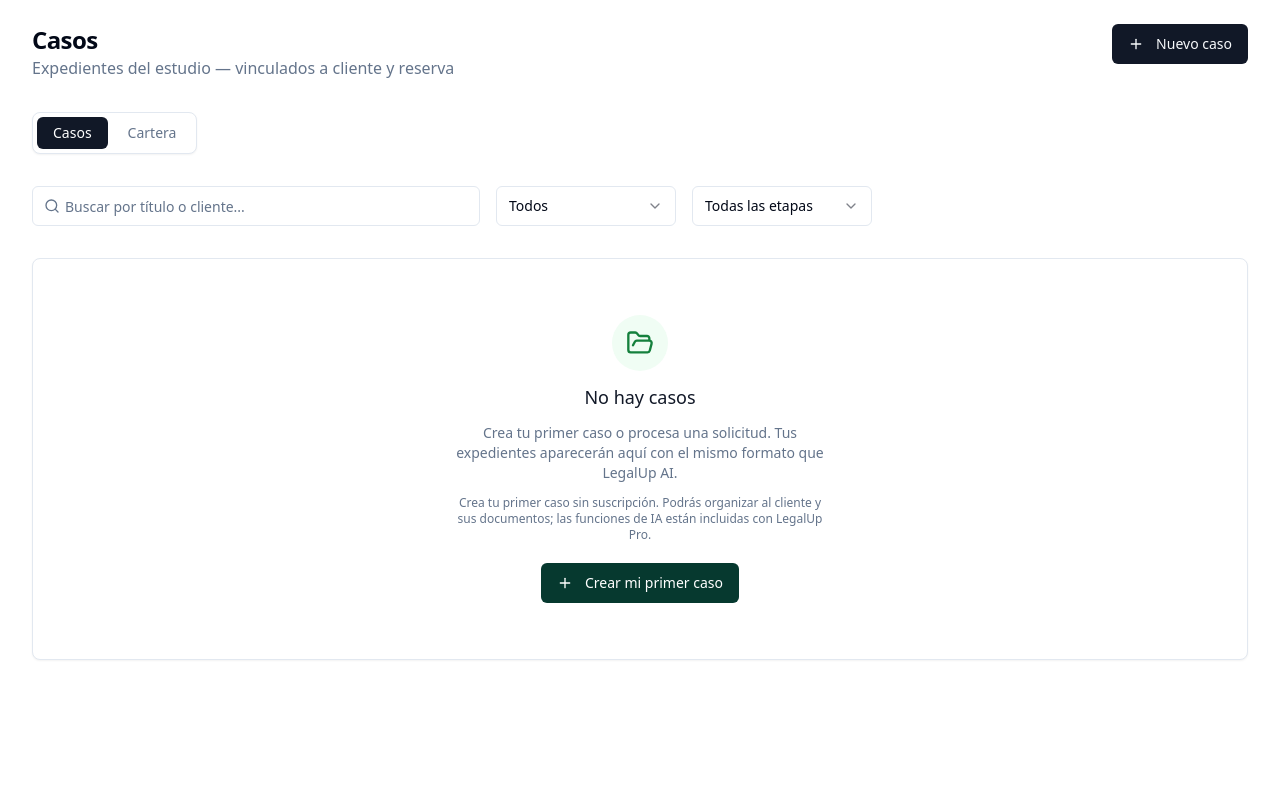
Test: 4.31C — New Case client dropdown › 2 clients: dropdown shows both names without visiting ClientsPage
This screenshot has width=1280, height=800.
Click the button "Nuevo caso". click: click(1180, 44)
box: [1112,24,1248,64]
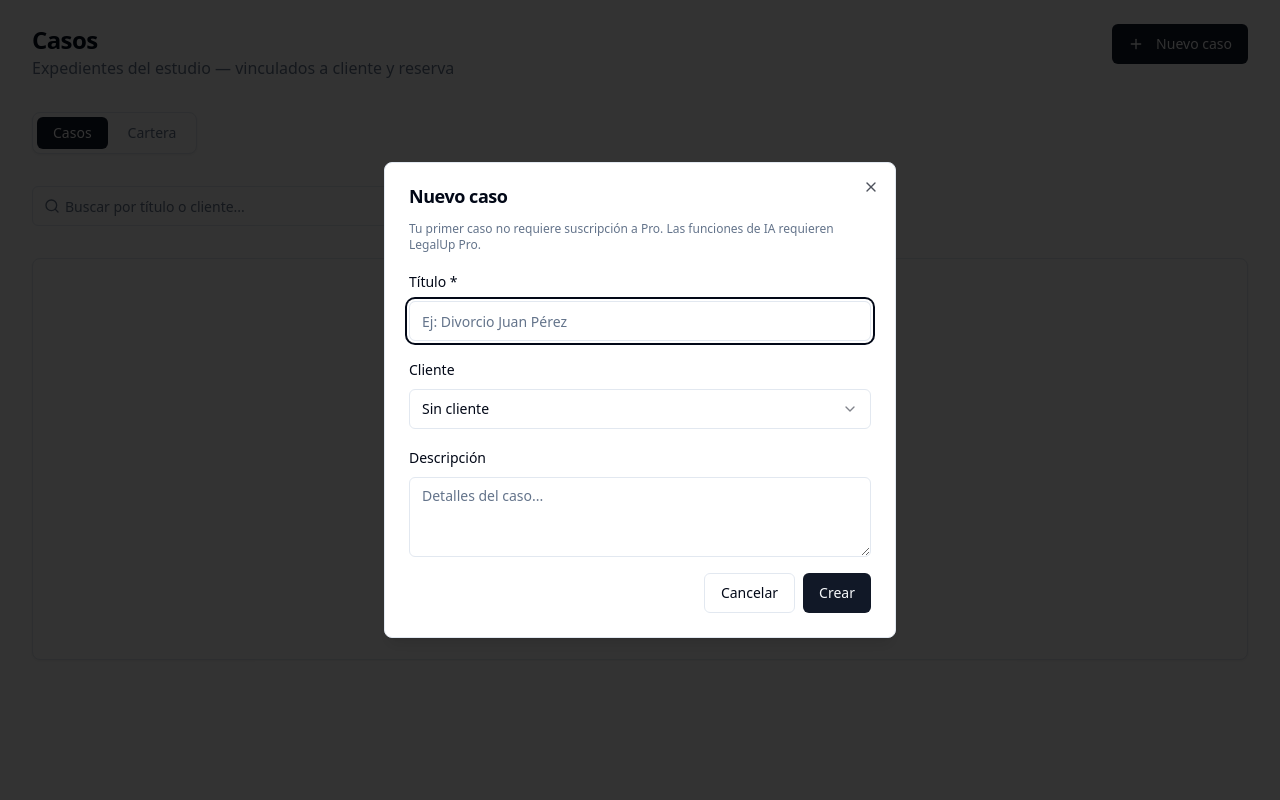
Click the dropdown. click: click(456, 408)
box: [409,389,871,429]
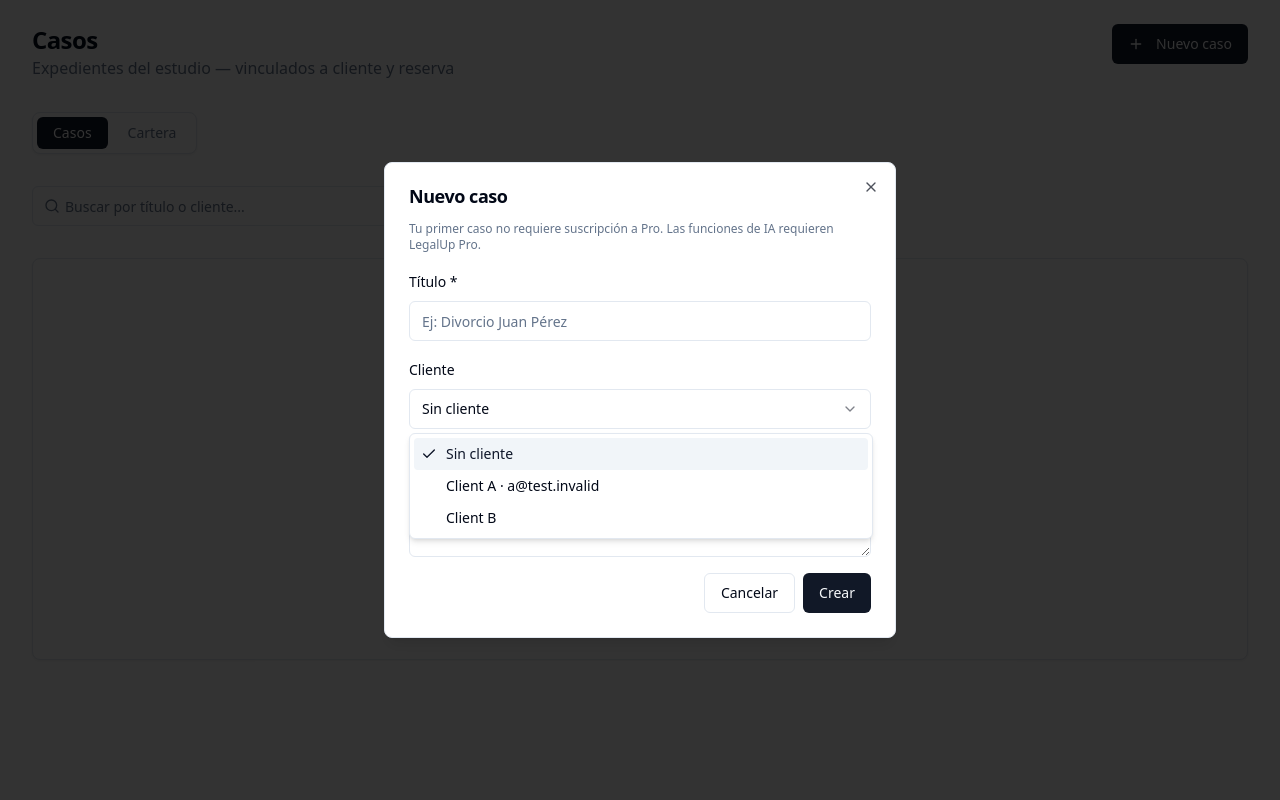
Now the option "Sin cliente" is shown, box [414,438,868,470]
Now the option "Client A · a@test.invalid" is shown, box [446,476,599,495]
Now the option "Client B" is shown, box [446,508,496,527]
